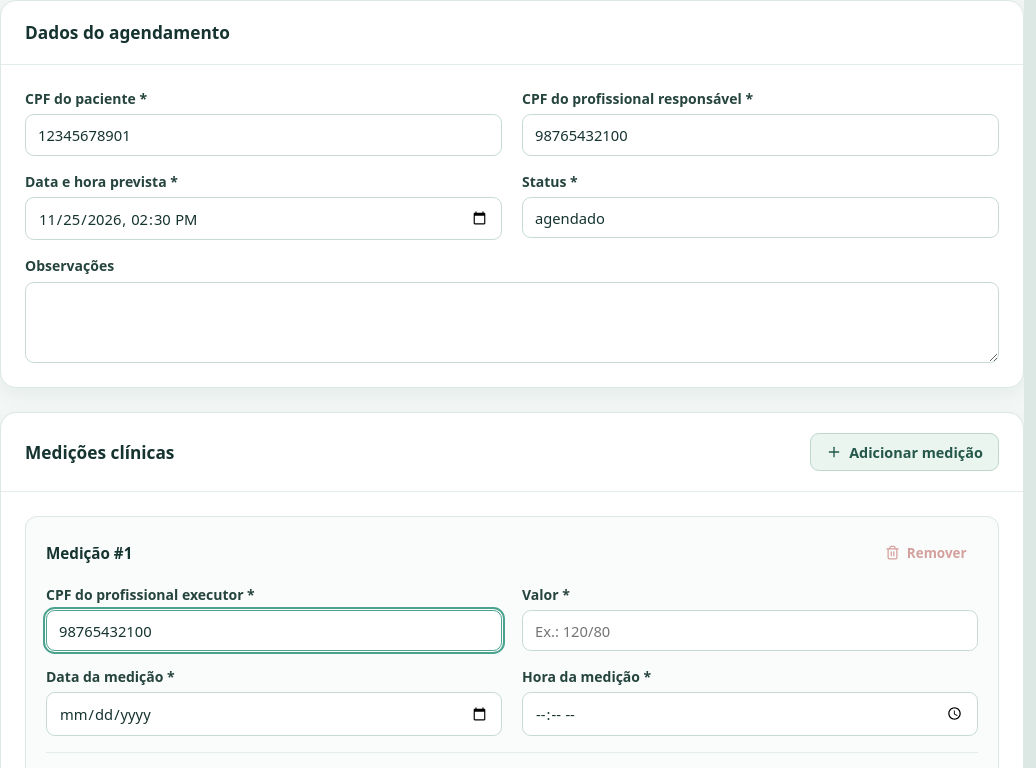
Test: RealizarAgendamento › envia payload normalizado sem observacoes quando vazia/espaços e reseta após sucesso
Earlier steps of the test are not shown.
Type "120/80" into the field labelled "Valor *" at (750, 630), box [522, 610, 978, 651]
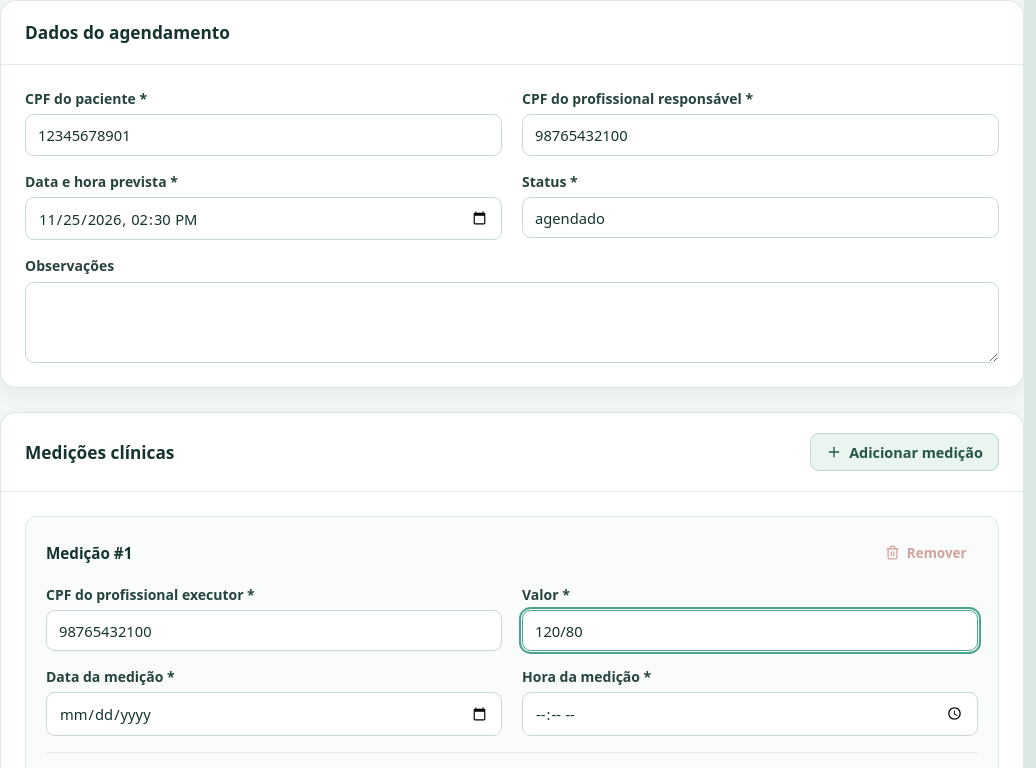
Type "2026-11-25" into the date field labelled "Data da medição *" at (274, 714), box [46, 692, 502, 736]
Type "14:45" into the time field labelled "Hora da medição *" at (750, 714), box [522, 692, 978, 736]
(page scrolled)
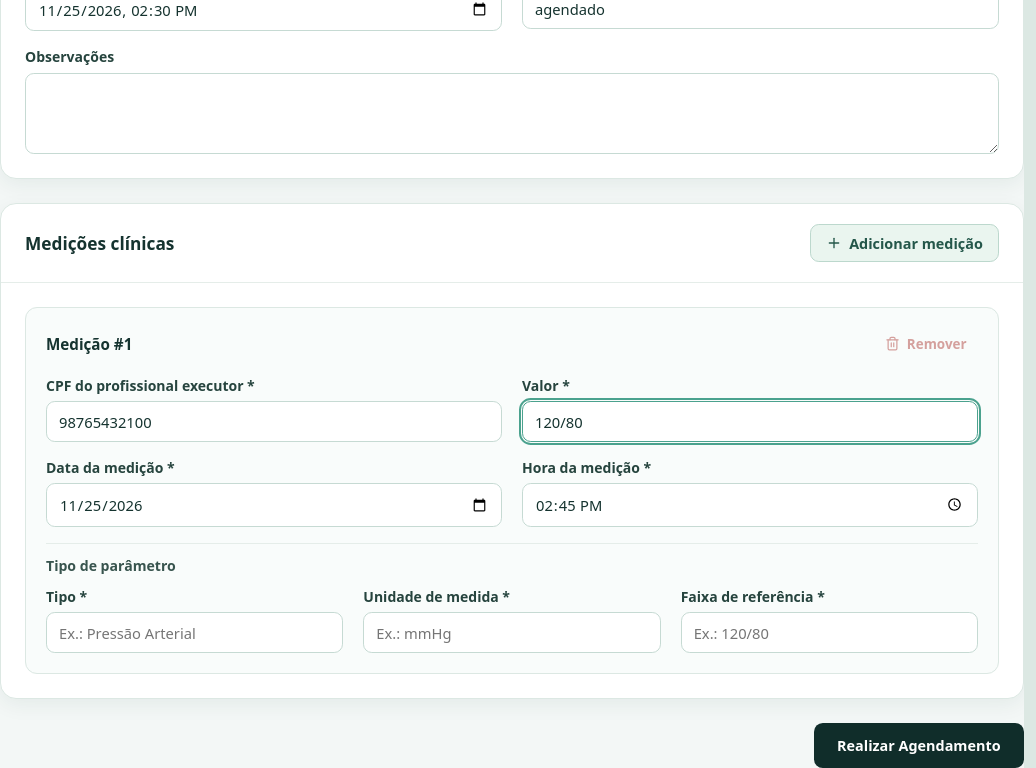
Type "Pressão Arterial" into the field labelled "Tipo *" at (195, 633), box [46, 612, 343, 653]
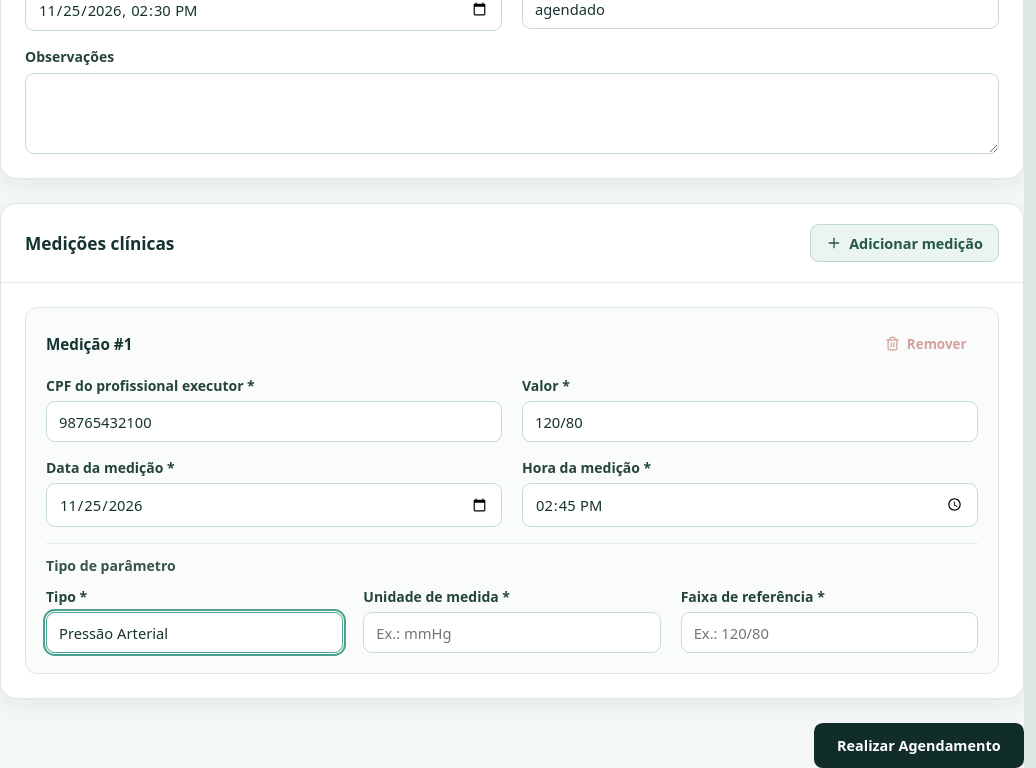
Type "mmHg" into the field labelled "Unidade de medida *" at (512, 633), box [363, 612, 661, 653]
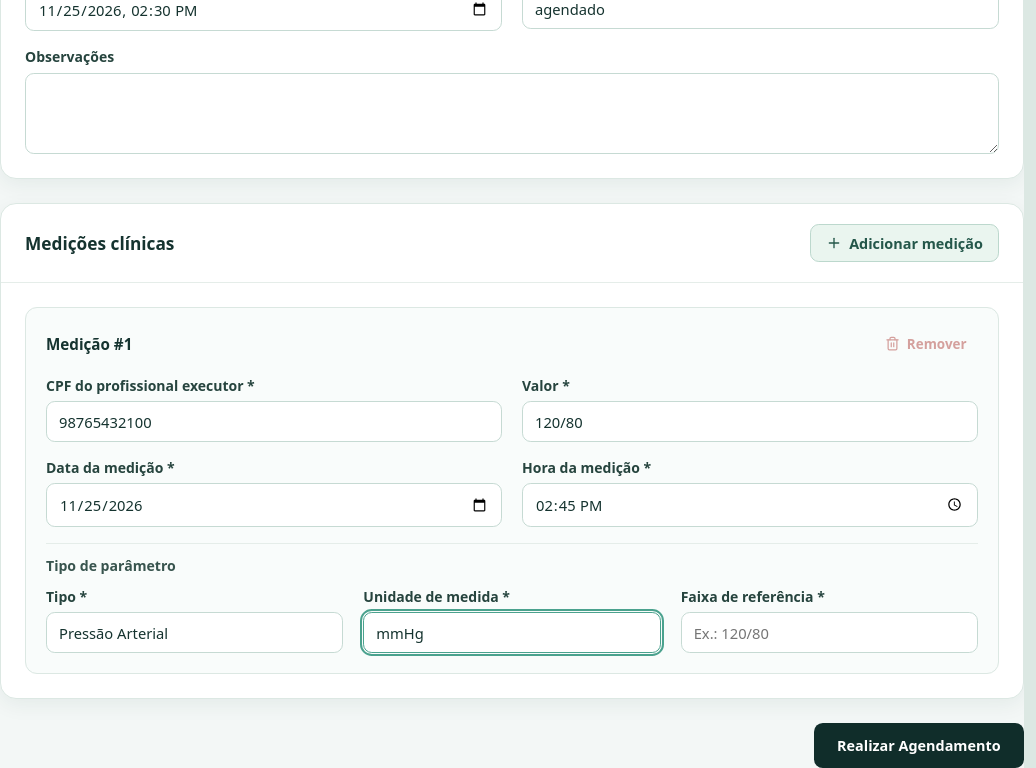
Type "120/80" into the field labelled "Faixa de referência *" at (829, 633), box [681, 612, 978, 653]
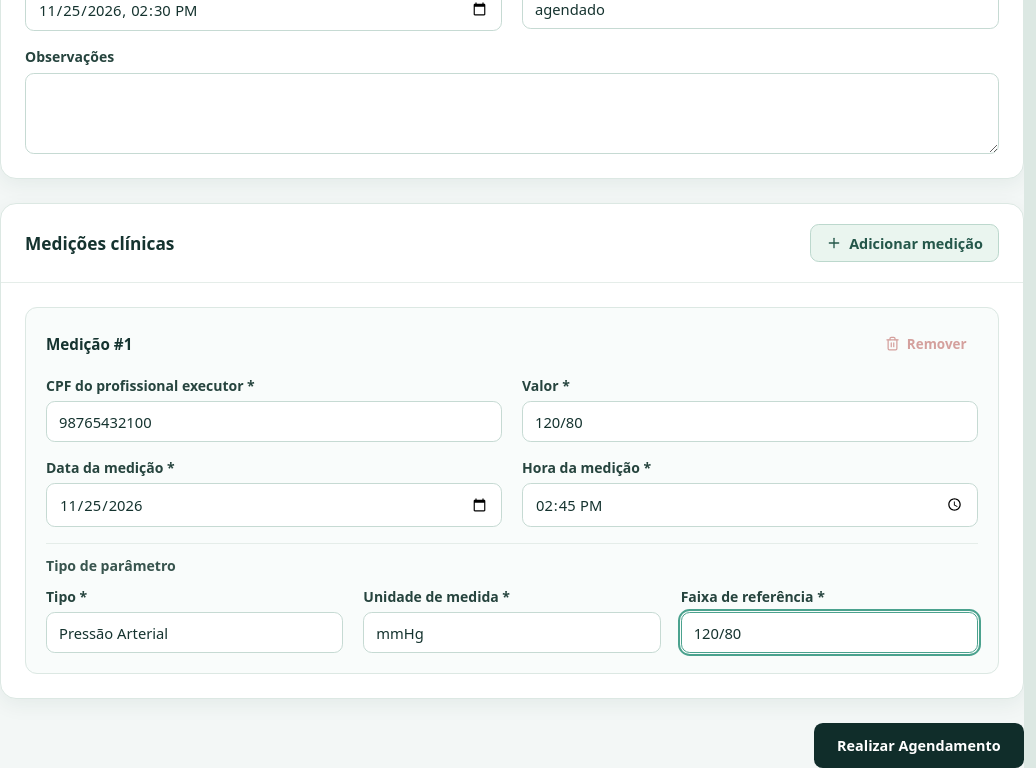
Click the button "Realizar Agendamento" at (919, 746), box [814, 723, 1024, 767]
(page scrolled)
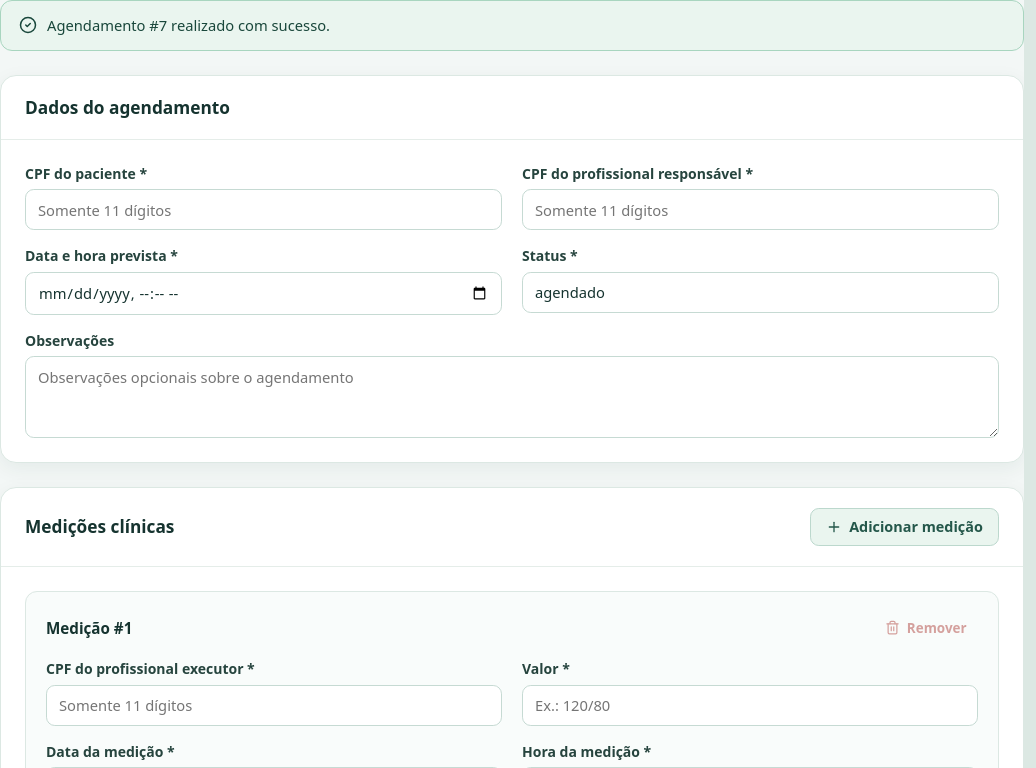
Expected: the field labelled "Status *" holds "agendado", [522, 272, 999, 313]
Expected: the message reads "Agendamento #7 realizado com sucesso.", [47, 15, 330, 35]
Expected: the field labelled "CPF do paciente *" is empty, [25, 189, 502, 230]
